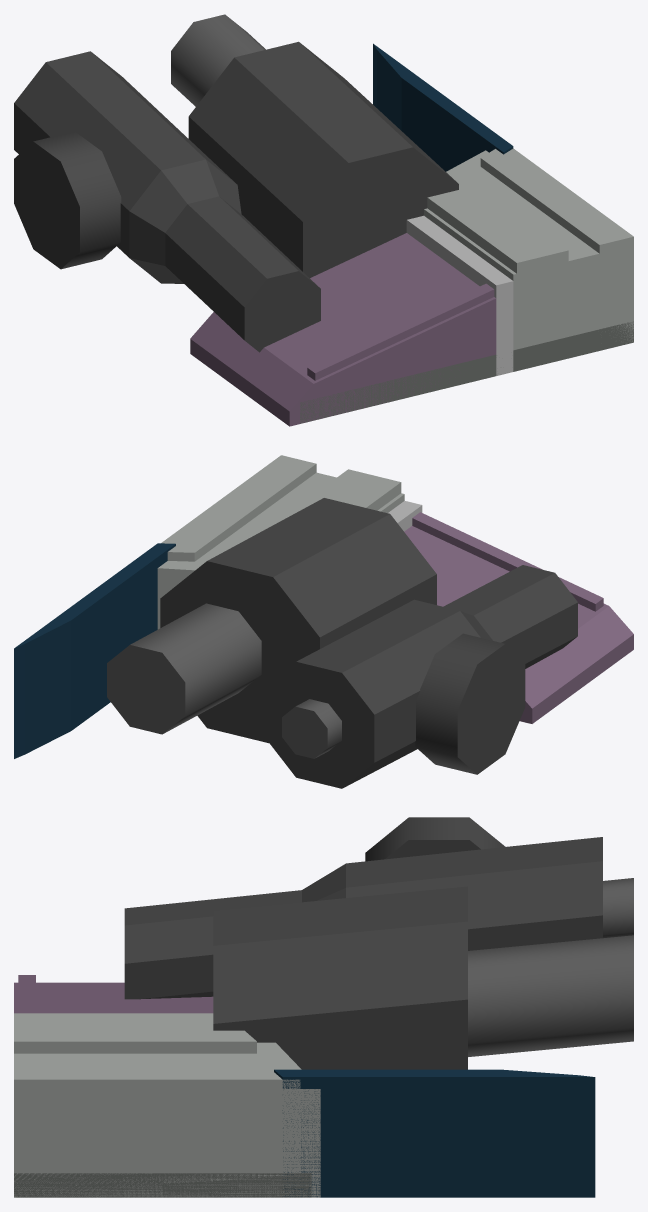
The model's file is newshb-77.glb.
3 renders of one model, top to bottom at view 1: azimuth 30°, elevation 25°; view 2: azimuth 150°, elevation 25°; view 3: azimuth 270°, elevation 25°, orthographic. The views are drawn at different scales.
Parts seen in each view (by area): view 1: newshb-77; view 2: newshb-77; view 3: newshb-77.
Boxes of the visible parts, <box> form: newshb-77: <box>14,14,633,426</box>; newshb-77: <box>14,455,633,788</box>; newshb-77: <box>14,817,633,1197</box>.
Size of the model in its own units: 1.92 by 0.8557 by 2.33.
